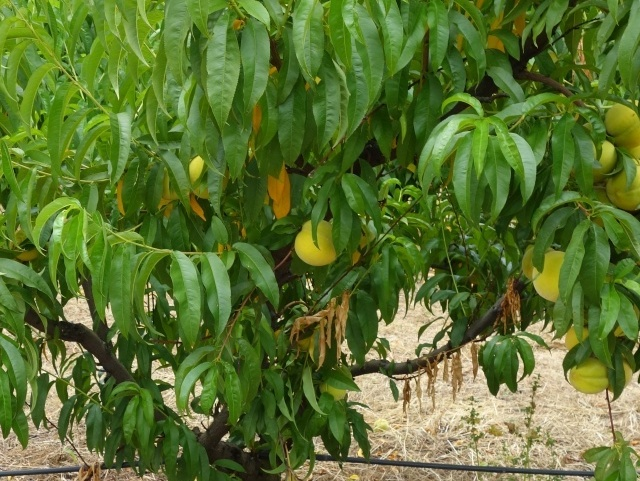peach: (293, 213, 346, 268), (596, 93, 640, 153), (532, 249, 575, 306), (185, 152, 227, 201), (566, 355, 611, 398), (608, 157, 640, 213), (583, 134, 619, 181), (563, 322, 593, 357), (516, 240, 539, 283), (318, 378, 349, 404)
